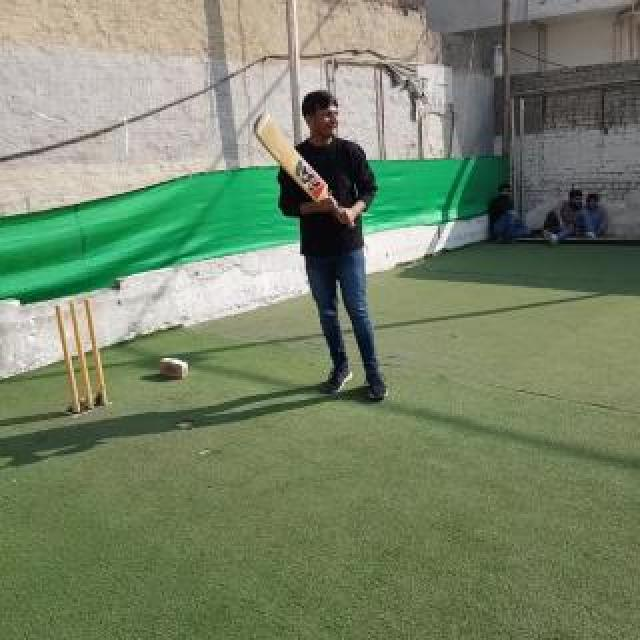bat: (254, 114, 356, 230)
